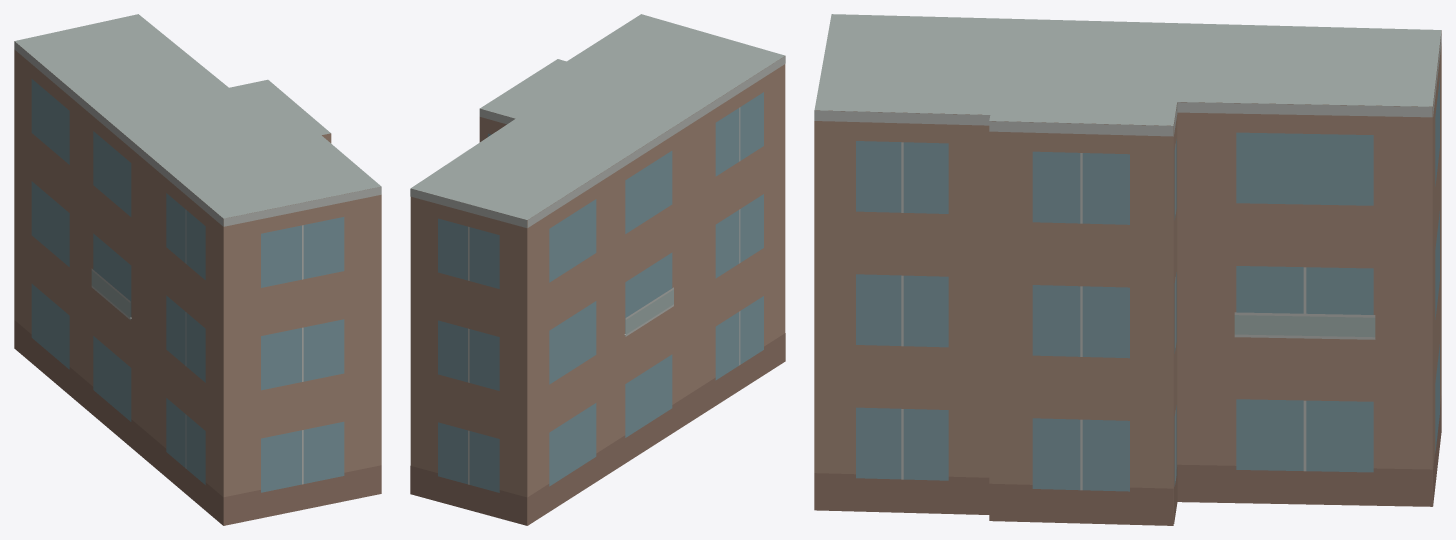
File: survey-upis-32503426.glb
The picture shows the model from 3 angles, left to right: view 1: azimuth 30°, elevation 25°; view 2: azimuth 150°, elevation 25°; view 3: azimuth 270°, elevation 25°; orthographic projection. The views are drawn at different scales.
Visible parts, largest first — view 1: survey-upis-32503426.tmp; view 2: survey-upis-32503426.tmp; view 3: survey-upis-32503426.tmp.
Part boxes in pixels (left/top/right/bottom): survey-upis-32503426.tmp: left=14, top=14, right=381, bottom=525; survey-upis-32503426.tmp: left=410, top=14, right=785, bottom=525; survey-upis-32503426.tmp: left=814, top=14, right=1441, bottom=525.
Size of the model in its own units: 5.5 by 9.15 by 13.01.
